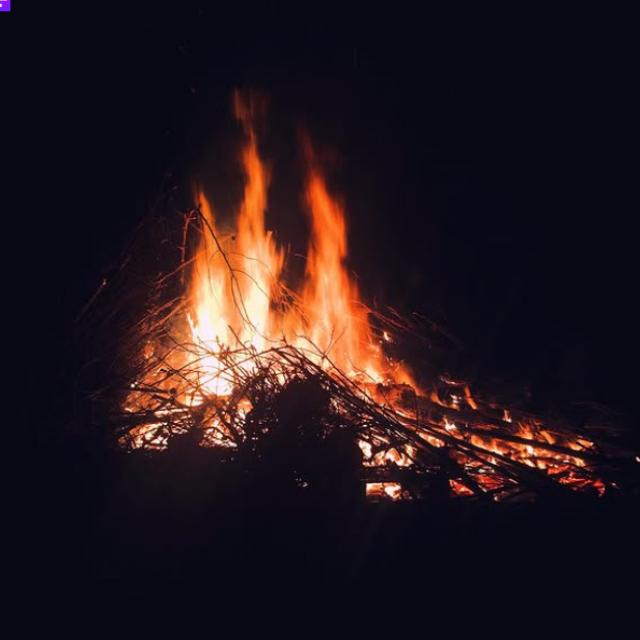fire: (287, 126, 409, 502), (117, 188, 233, 452), (409, 372, 613, 503), (235, 94, 288, 354), (236, 352, 288, 441)
